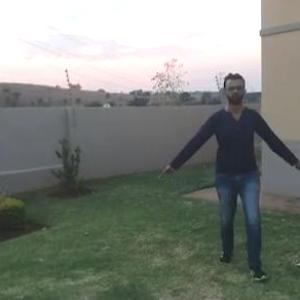land: (161, 68, 300, 265)
